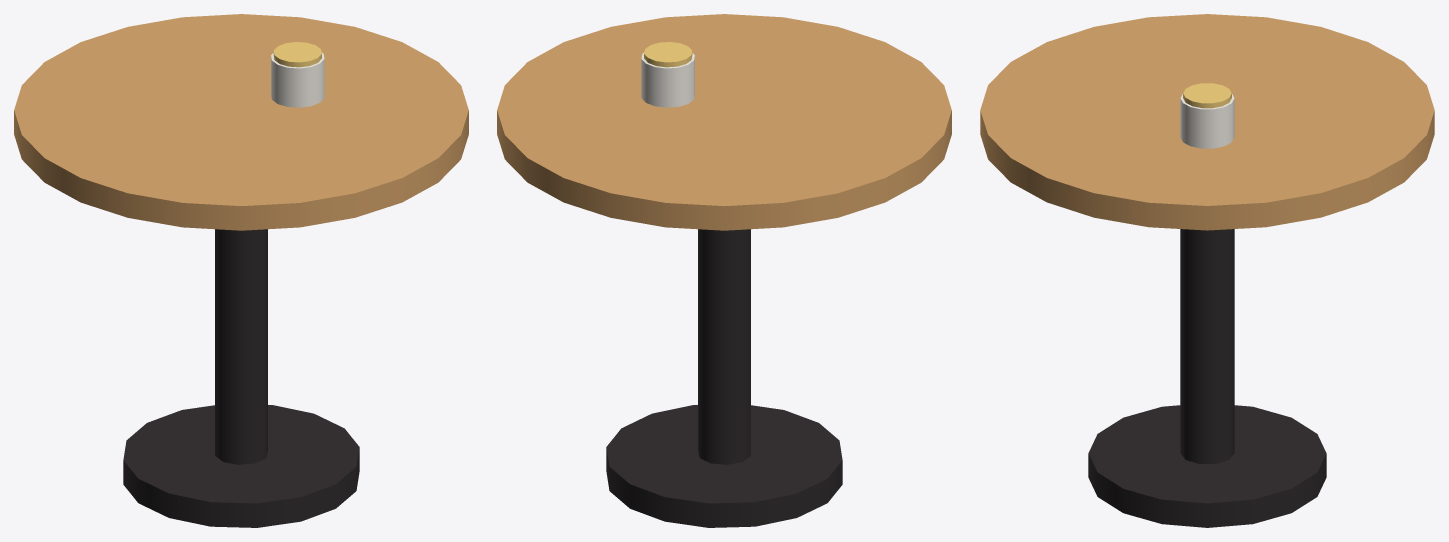
File: round_table.glb
3 renders of one model, left to right at view 1: azimuth 30°, elevation 25°; view 2: azimuth 150°, elevation 25°; view 3: azimuth 270°, elevation 25°, orthographic.
Parts seen in each view (by area): view 1: Top, Foot, Stem, Cup, Foam; view 2: Top, Foot, Stem, Cup, Foam; view 3: Top, Foot, Stem, Cup, Foam.
Boxes of the visible parts, x1,y1,x2,y2 form: Top: (14, 14, 468, 230); Foot: (123, 405, 359, 527); Stem: (215, 229, 267, 464); Cup: (271, 52, 324, 107); Foam: (273, 42, 321, 67); Top: (497, 14, 951, 230); Foot: (606, 405, 842, 527); Stem: (698, 229, 750, 464); Cup: (641, 52, 694, 107); Foam: (644, 42, 692, 67); Top: (980, 14, 1434, 230); Foot: (1088, 405, 1326, 527); Stem: (1180, 229, 1234, 463); Cup: (1180, 94, 1234, 148); Foam: (1183, 83, 1231, 108).
Size of the model in its own units: 0.84 by 0.84 by 0.84.
